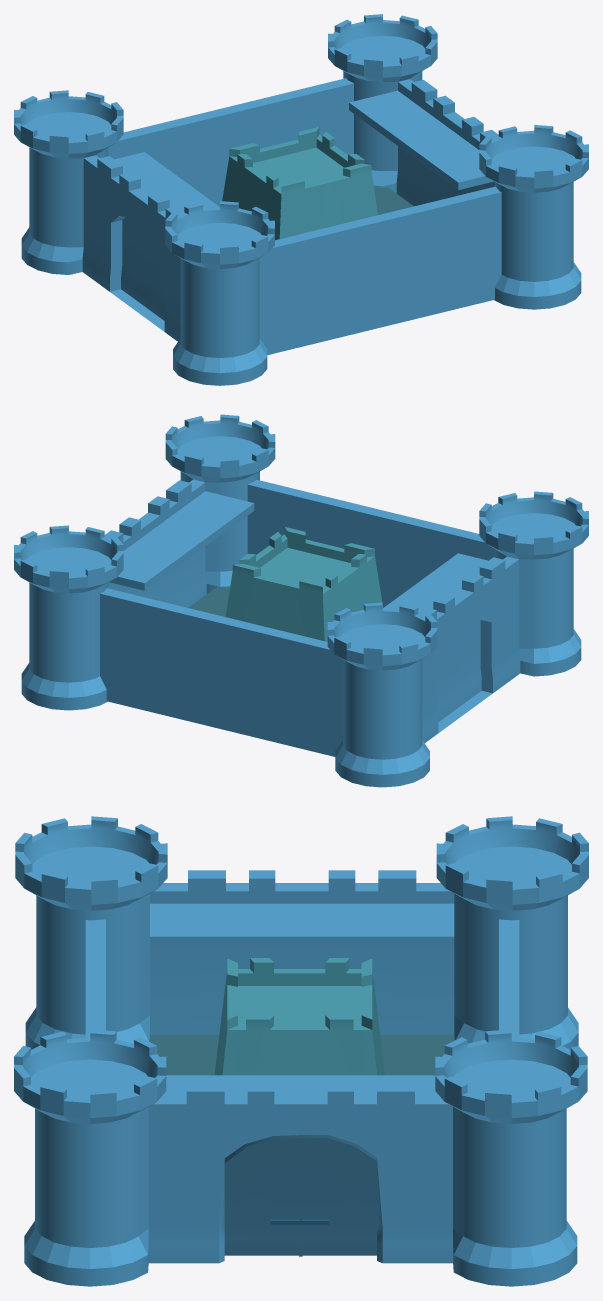
Rendered from Castle.fbx.
The picture shows the model from 3 angles, top to bottom: view 1: azimuth 30°, elevation 25°; view 2: azimuth 150°, elevation 25°; view 3: azimuth 270°, elevation 25°; orthographic projection. The views are drawn at different scales.
Visible parts, largest first — view 1: Castle; view 2: Castle; view 3: Castle.
Boxes of the visible parts, bbox=[...] form: Castle: bbox=[14, 14, 588, 385]; Castle: bbox=[14, 414, 588, 787]; Castle: bbox=[14, 816, 588, 1286].
Size of the model in its own units: 3214 by 1135 by 2804.
